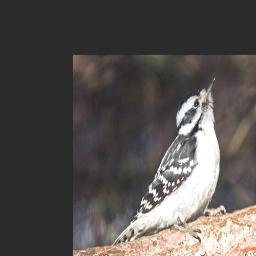Woodpecker: (113, 74, 230, 245)
